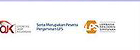ojk: (1, 18, 33, 37)
